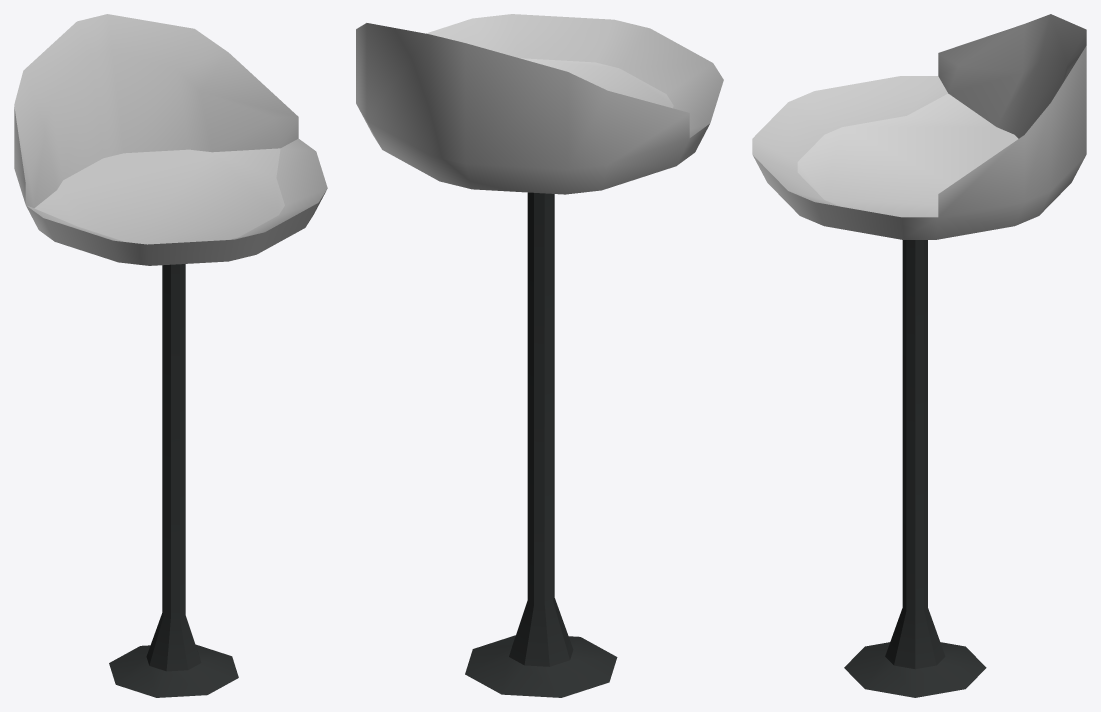
File: ModernStool.glb
3 views of the same model, side by side, from view 1: azimuth 30°, elevation 25°; view 2: azimuth 150°, elevation 25°; view 3: azimuth 270°, elevation 25° (orthographic). The views are drawn at different scales.
Visible parts, largest first — view 1: modernStool; view 2: modernStool; view 3: modernStool.
Boxes of the visible parts, left/top/right/bottom form: modernStool: left=14, top=14, right=327, bottom=697; modernStool: left=356, top=14, right=723, bottom=697; modernStool: left=752, top=14, right=1086, bottom=697.
Size of what is drawn, in the model's own units: 0.5504 by 1.14 by 0.5504.
Materials: 1 (1 with a texture image).
